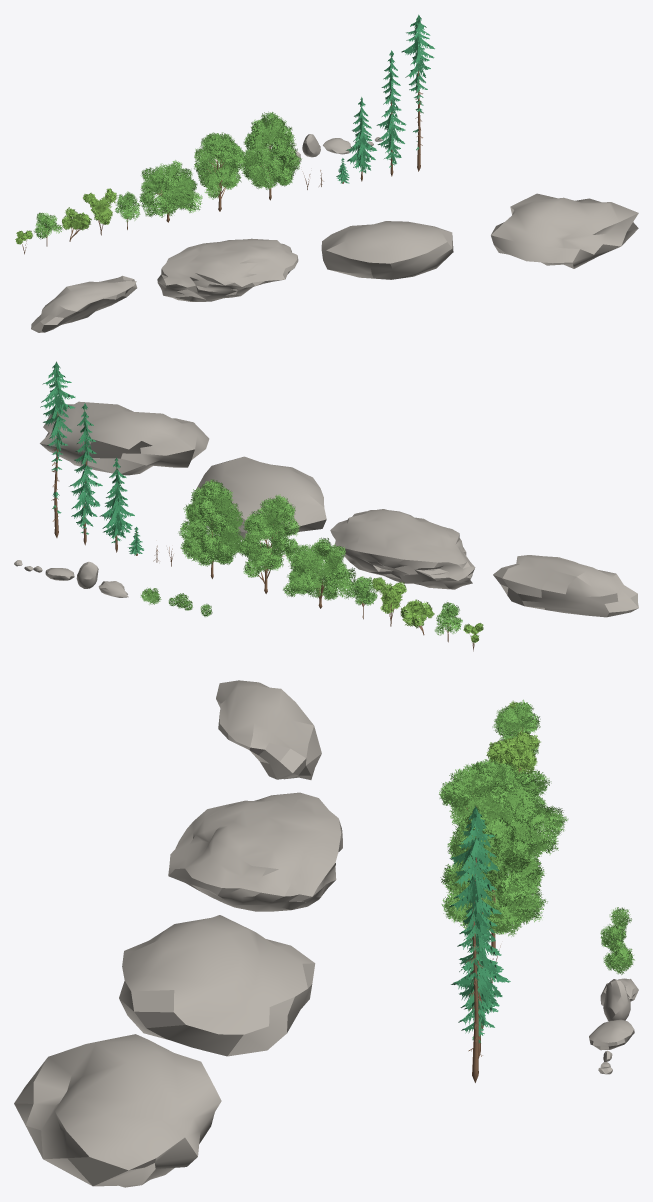
Rendered from grove.glb.
3 views of the same model, one above another, from view 1: azimuth 30°, elevation 25°; view 2: azimuth 150°, elevation 25°; view 3: azimuth 270°, elevation 25° (orthographic). The views are drawn at different scales.
Parts seen in each view (by area): view 1: Rock_Big_c_LOD0_30, Rock_Big_a_LOD0_32, Rock_Big_b_LOD0_33, Tree_Big_a_LOD0_17, Rock_Big_d_LOD0_34, Tree_Big_c_LOD0_16, Tree_Big_b_LOD0_13, Conifer_LOD0_8, Pine_Big_LOD0_7, Pine_Medium_LOD0_6, Tree_Small_b_LOD0_15, Tree_Small_a_LOD0_12 (+2 smaller); view 2: Rock_Big_c_LOD0_30, Rock_Big_a_LOD0_32, Rock_Big_d_LOD0_34, Rock_Big_b_LOD0_33, Tree_Big_a_LOD0_17, Tree_Big_b_LOD0_13, Tree_Big_c_LOD0_16, Conifer_LOD0_8, Pine_Big_LOD0_7, Pine_Medium_LOD0_6, Tree_Small_b_LOD0_15, Tree_Small_c_LOD0_5 (+3 smaller); view 3: Rock_Big_c_LOD0_30, Rock_Big_b_LOD0_33, Rock_Big_a_LOD0_32, Tree_Big_a_LOD0_17, Rock_Big_d_LOD0_34, Conifer_LOD0_8, Tree_Big_b_LOD0_13, Tree_Big_c_LOD0_16, Pine_Big_LOD0_7, Tree_Small_b_LOD0_15, Tree_Small_d_LOD0_4, Pine_Medium_LOD0_6 (+2 smaller).
Boxes of the visible parts, x1,y1,x2,y2 form: Rock_Big_c_LOD0_30: (491,193,638,268); Rock_Big_a_LOD0_32: (157,238,298,301); Rock_Big_b_LOD0_33: (321,221,453,279); Tree_Big_a_LOD0_17: (242,111,301,200); Rock_Big_d_LOD0_34: (31,275,137,332); Tree_Big_c_LOD0_16: (139,160,202,222); Tree_Big_b_LOD0_13: (194,132,246,211); Conifer_LOD0_8: (401,14,434,171); Pine_Big_LOD0_7: (376,50,406,176); Pine_Medium_LOD0_6: (346,97,376,181); Tree_Small_b_LOD0_15: (83,188,117,235); Tree_Small_a_LOD0_12: (115,191,140,229); Rock_Big_c_LOD0_30: (40,401,209,475); Rock_Big_a_LOD0_32: (330,509,475,589); Rock_Big_d_LOD0_34: (493,555,638,617); Rock_Big_b_LOD0_33: (193,456,326,540); Tree_Big_a_LOD0_17: (178,479,244,578); Tree_Big_b_LOD0_13: (238,494,300,593); Tree_Big_c_LOD0_16: (283,537,356,608); Conifer_LOD0_8: (40,361,75,537); Pine_Big_LOD0_7: (69,403,102,545); Pine_Medium_LOD0_6: (99,457,134,552); Tree_Small_b_LOD0_15: (372,577,406,626); Tree_Small_c_LOD0_5: (400,599,434,635); Rock_Big_c_LOD0_30: (14,1034,221,1187); Rock_Big_b_LOD0_33: (119,915,315,1056); Rock_Big_a_LOD0_32: (168,792,342,911); Tree_Big_a_LOD0_17: (440,795,547,954); Rock_Big_d_LOD0_34: (216,680,321,779); Conifer_LOD0_8: (449,806,501,1082); Tree_Big_b_LOD0_13: (439,758,547,875); Tree_Big_c_LOD0_16: (449,762,568,854); Pine_Big_LOD0_7: (451,838,505,1058); Tree_Small_b_LOD0_15: (486,731,540,773); Tree_Small_d_LOD0_4: (492,699,540,754); Pine_Medium_LOD0_6: (453,886,510,1031).
Size of the model in its own units: 119 by 35.62 by 64.88.
8 materials, 4 textured.
